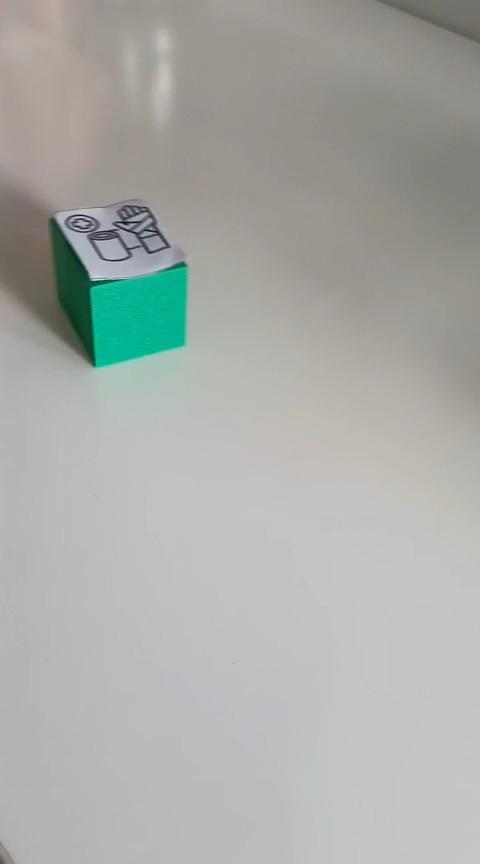Bandages: (47, 197, 189, 368)
